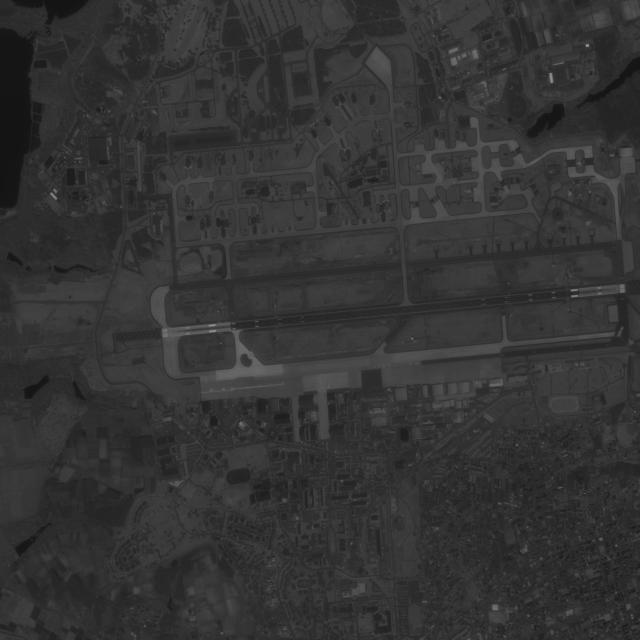plane: (326, 383, 333, 391)
